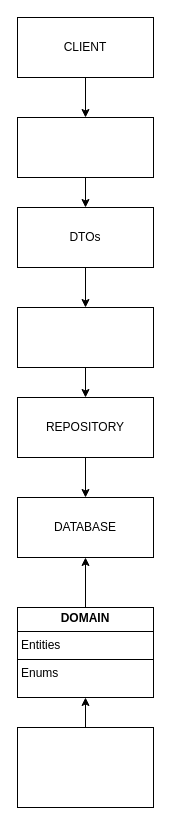
Image size: 171x825. Some labels were removed from this diagram. The centre of each missing label's shape, as x and y in pixels:
CONTROLLER: point (85, 147)
EXCEPTIONS BusinessException NotFoundException GlobalExceptionHandler: point (85, 767)
SERVICE: point (85, 337)
